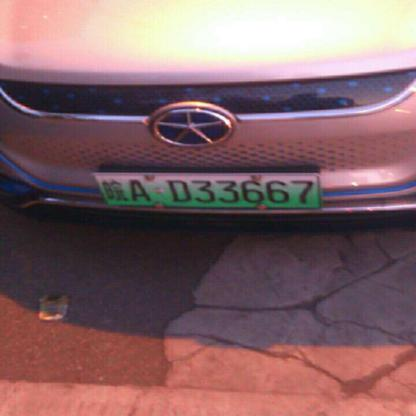lp: (94, 173, 319, 206)
